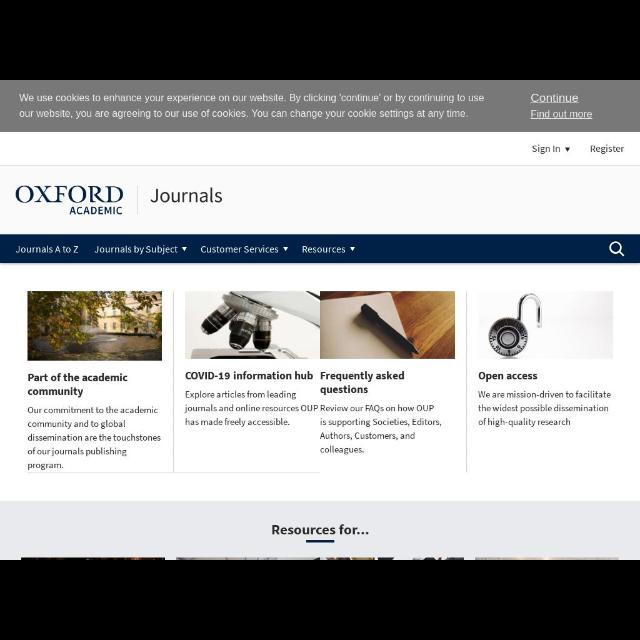icon: (608, 240, 626, 258), (282, 245, 290, 253), (182, 244, 188, 253), (566, 146, 572, 154), (350, 246, 356, 252)
image: (468, 291, 612, 364), (186, 290, 320, 360), (27, 292, 162, 361), (320, 291, 456, 359), (16, 184, 130, 218)
multitab: (1, 234, 363, 262)
panel: (1, 80, 639, 132)
spinner: (95, 243, 189, 254), (201, 244, 289, 253), (530, 142, 574, 156), (302, 246, 358, 256)
text: (19, 92, 484, 118), (28, 406, 162, 469), (320, 404, 442, 454), (478, 392, 614, 428), (185, 391, 318, 427), (29, 374, 129, 396), (321, 372, 405, 394), (272, 524, 370, 538), (152, 187, 224, 206), (185, 370, 315, 380), (95, 243, 179, 254), (15, 244, 81, 256), (201, 245, 279, 253), (532, 109, 594, 119), (530, 92, 580, 104), (479, 372, 538, 382), (302, 246, 346, 254), (532, 144, 562, 154), (591, 146, 625, 154)
